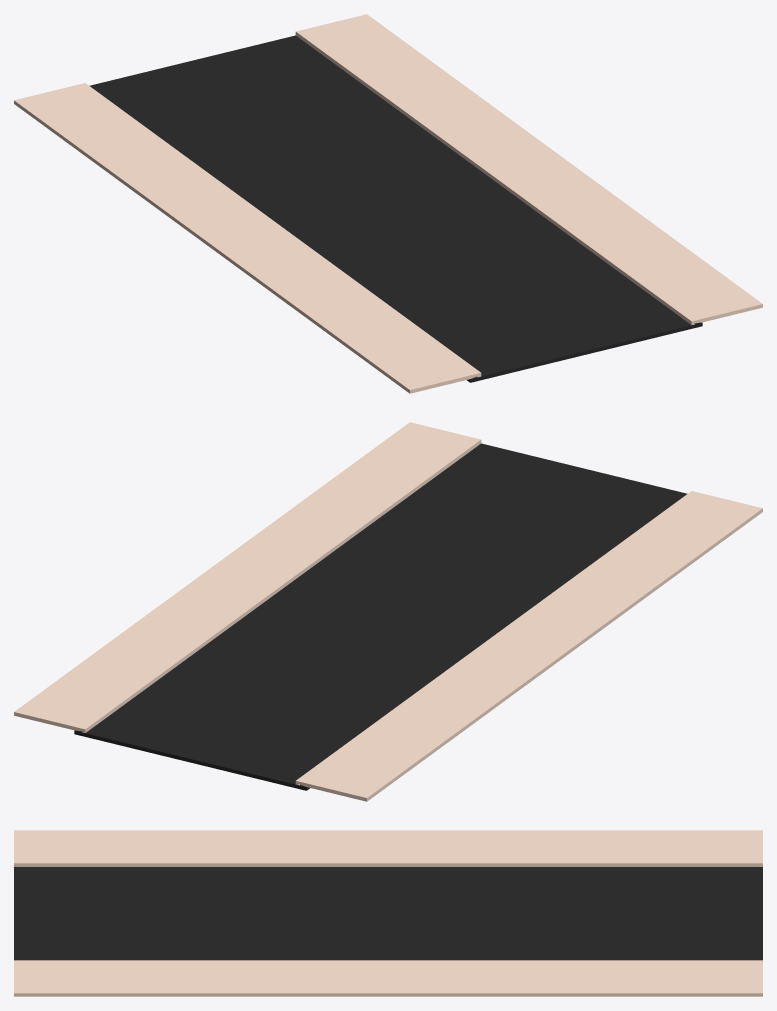
The model's file is 2-way Road.fbx.
The picture shows the model from 3 angles, top to bottom: view 1: azimuth 30°, elevation 25°; view 2: azimuth 150°, elevation 25°; view 3: azimuth 270°, elevation 25°; orthographic projection. The views are drawn at different scales.
Parts seen in each view (by area): view 1: 2-way road, 2-way road.002; view 2: 2-way road, 2-way road.002; view 3: 2-way road, 2-way road.002.
Boxes of the visible parts, x1,y1,x2,y2 form: 2-way road: (89,35,702,382); 2-way road.002: (14,14,762,393); 2-way road: (74,443,687,790); 2-way road.002: (14,422,762,801); 2-way road: (14,867,762,960); 2-way road.002: (14,830,762,996).
Size of the model in its own units: 198 by 4.03 by 385.
